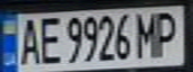2: (97, 11, 118, 63)
6: (112, 10, 136, 61)
9: (60, 12, 84, 64), (81, 12, 100, 63)
A: (15, 14, 42, 66)
E: (33, 14, 63, 65)
M: (133, 8, 163, 60)
P: (151, 8, 184, 59)
